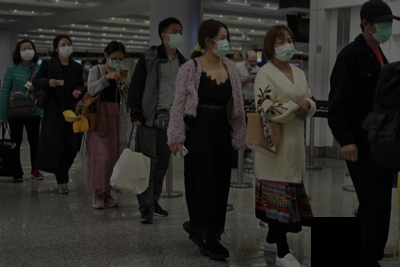mask_weared_incorrect: (248, 59, 259, 70)
with_mask: (274, 37, 296, 62), (370, 22, 394, 44), (212, 34, 230, 58), (165, 28, 184, 49), (58, 42, 73, 57), (19, 47, 35, 61), (108, 56, 125, 69), (85, 63, 93, 71)
